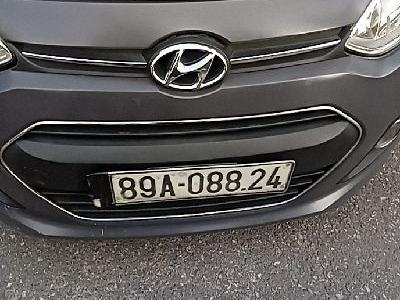car: (107, 159, 297, 208)
